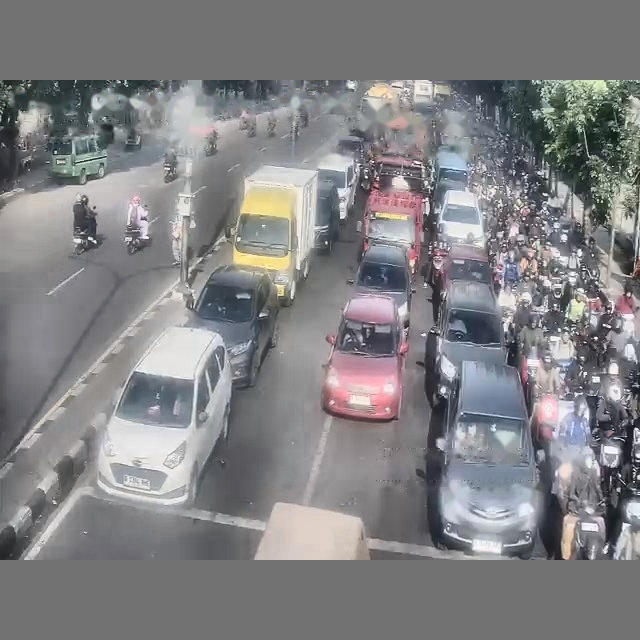Mobil: (97, 326, 232, 506), (436, 361, 540, 557), (187, 265, 279, 386), (321, 295, 407, 420), (424, 281, 505, 406), (348, 243, 412, 328), (317, 153, 358, 220), (438, 190, 485, 247), (443, 244, 492, 284), (315, 181, 339, 253), (336, 135, 365, 181), (345, 80, 357, 91)
Motor: (124, 225, 150, 254), (73, 229, 95, 254), (163, 163, 176, 183)
Truk: (225, 165, 317, 305)
